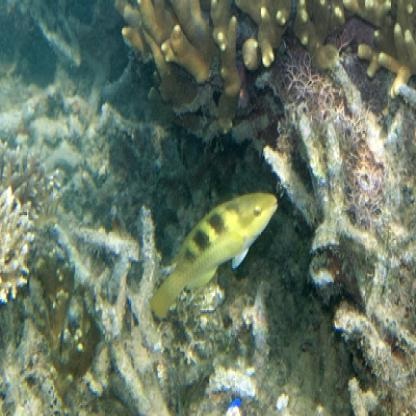Scaridae -Parrotfishes-: (148, 185, 277, 327)
